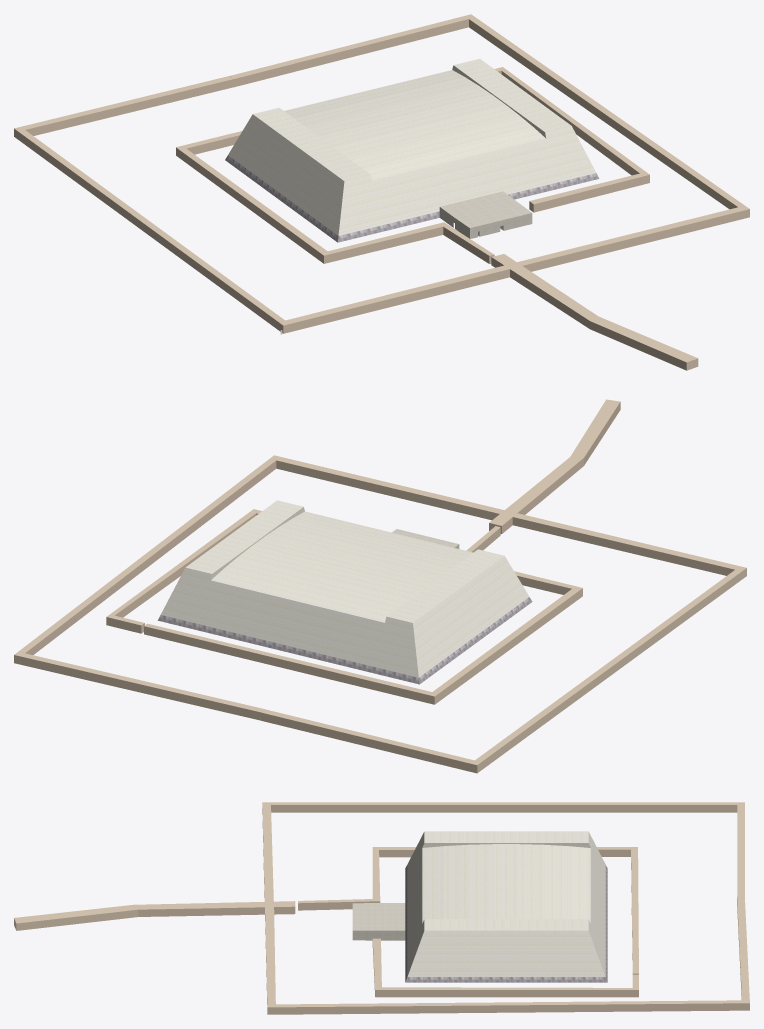
File: Shepseskaf_Mastaba.glb
3 views of the same model, one above another, from view 1: azimuth 30°, elevation 25°; view 2: azimuth 150°, elevation 25°; view 3: azimuth 270°, elevation 25° (orthographic). The views are drawn at different scales.
Visible parts, largest first — view 1: Mesh1 Model, Mesh2 Model, Mesh3 Model, Mesh4 Model; view 2: Mesh1 Model, Mesh2 Model, Mesh3 Model, Mesh4 Model; view 3: Mesh1 Model, Mesh2 Model, Mesh4 Model, Mesh3 Model.
Part boxes in pixels (bbox=[...]): Mesh1 Model: bbox=[225, 58, 599, 242]; Mesh2 Model: bbox=[14, 14, 749, 370]; Mesh3 Model: bbox=[176, 131, 494, 263]; Mesh4 Model: bbox=[494, 67, 649, 212]; Mesh1 Model: bbox=[157, 500, 532, 684]; Mesh2 Model: bbox=[14, 399, 746, 773]; Mesh3 Model: bbox=[144, 526, 582, 704]; Mesh4 Model: bbox=[106, 509, 261, 633]; Mesh1 Model: bbox=[352, 831, 607, 982]; Mesh2 Model: bbox=[14, 802, 749, 1014]; Mesh4 Model: bbox=[372, 938, 638, 997]; Mesh3 Model: bbox=[298, 847, 638, 974].
Bounding box in the file's own units: 180 × 18 × 271.
Materials: 7 (4 with a texture image).
